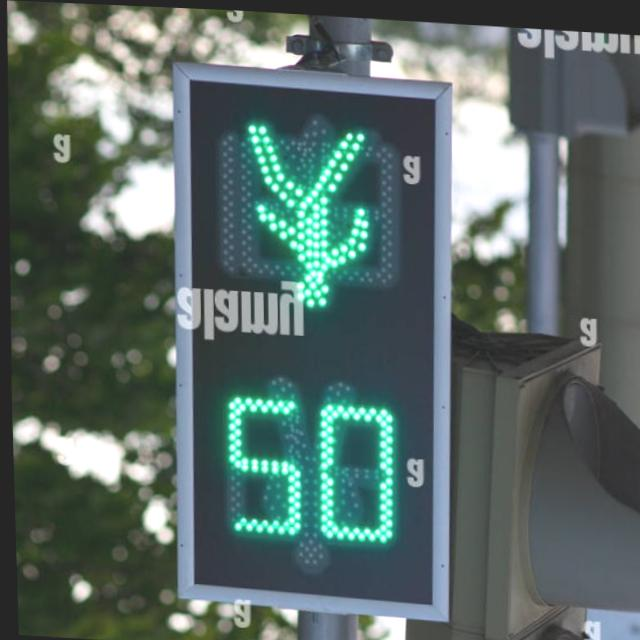green_light: (252, 110, 370, 305)
